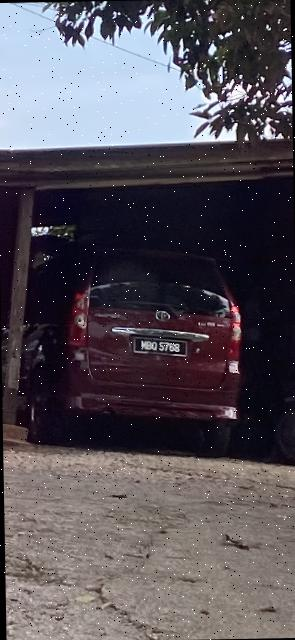License_Plate: (133, 335, 188, 359)
car: (24, 237, 245, 461)
